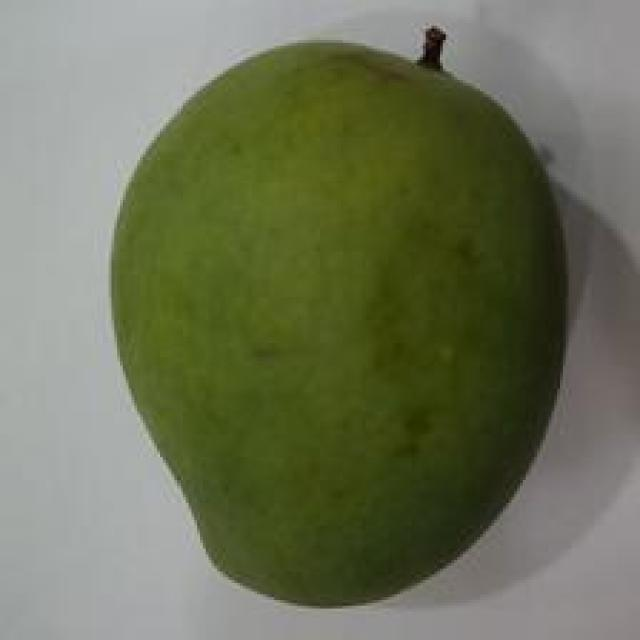Good_Mango: (106, 40, 571, 611)
